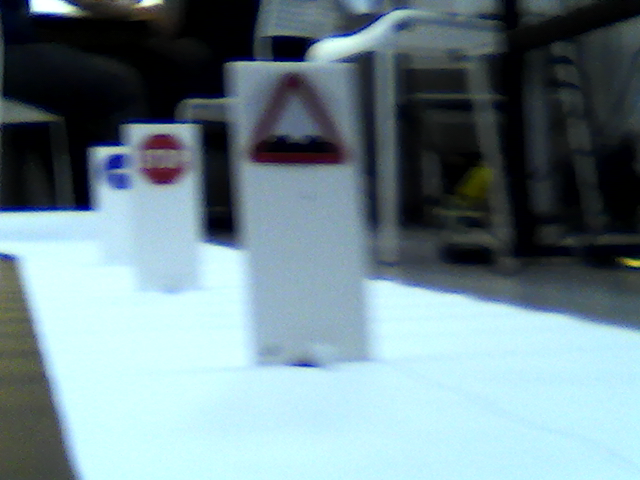Nerov: (248, 70, 345, 169)
Stop: (138, 130, 189, 186)
